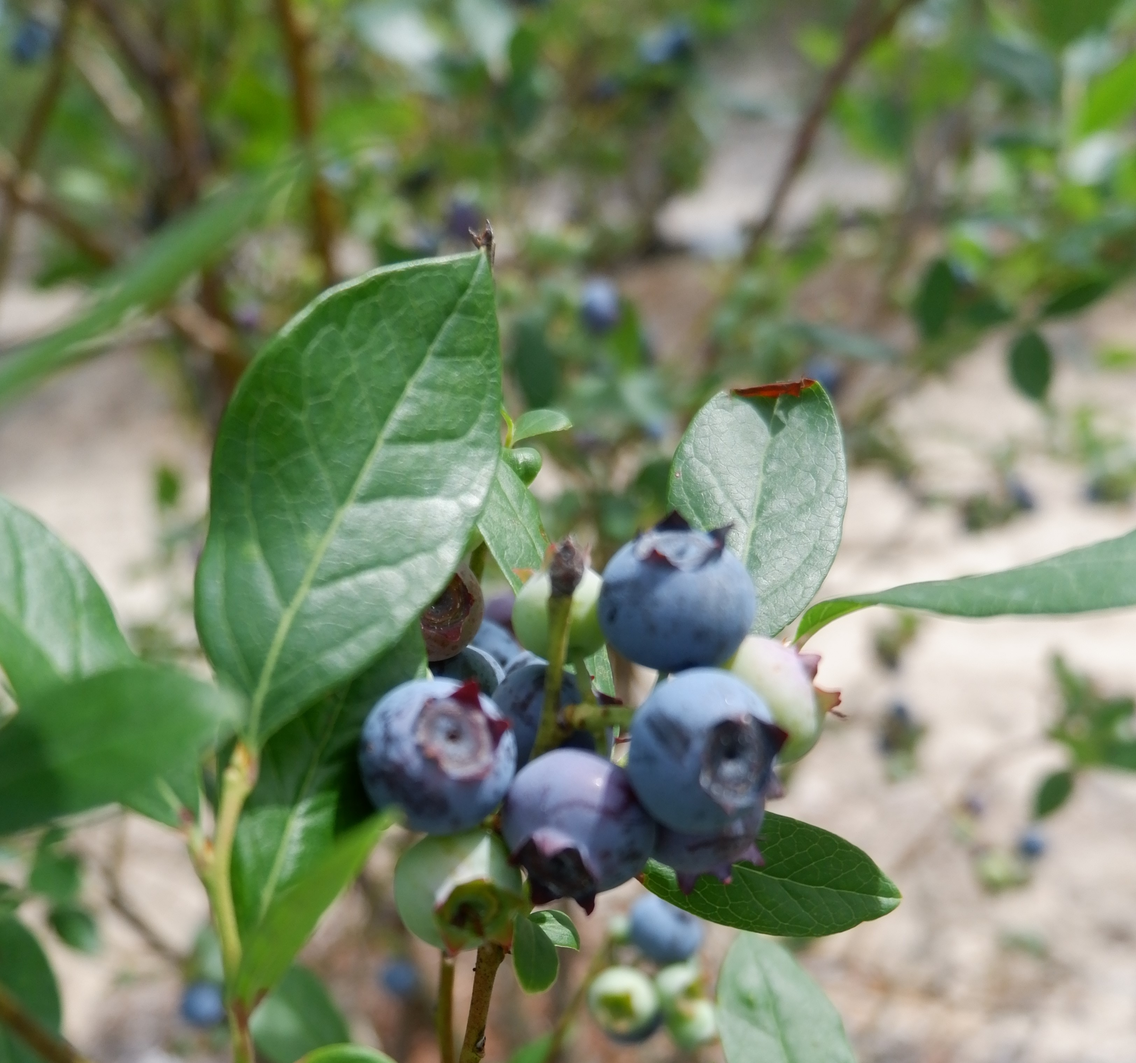Immature: (397, 833, 526, 955), (728, 638, 839, 759), (515, 542, 601, 662), (421, 569, 482, 659)
Mature: (633, 670, 781, 832), (358, 682, 515, 833), (500, 752, 656, 903), (602, 519, 752, 670), (493, 660, 613, 775), (650, 797, 768, 897), (429, 644, 506, 699), (469, 617, 529, 670)
